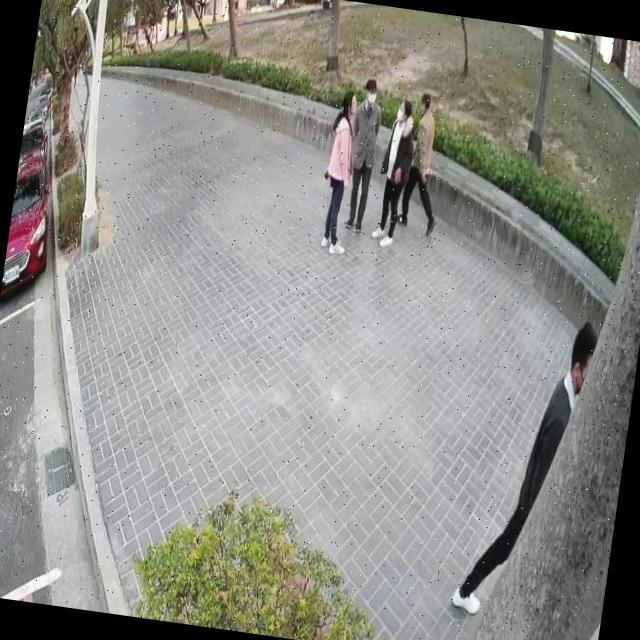person: (446, 300, 604, 630), (312, 84, 370, 258), (394, 86, 457, 242), (369, 92, 424, 254), (340, 72, 390, 232)
